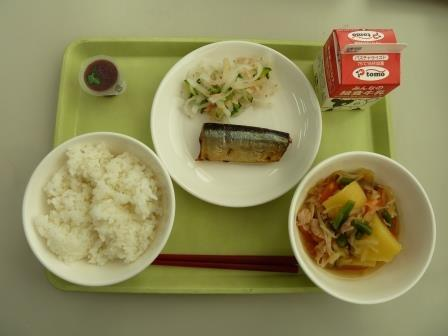Cup desserts: (80, 60, 129, 101)
Fish: (181, 50, 281, 116), (195, 115, 288, 178)
Milk: (311, 20, 409, 113)
Rice: (35, 143, 171, 269)
vegetable soup: (300, 162, 427, 286)
